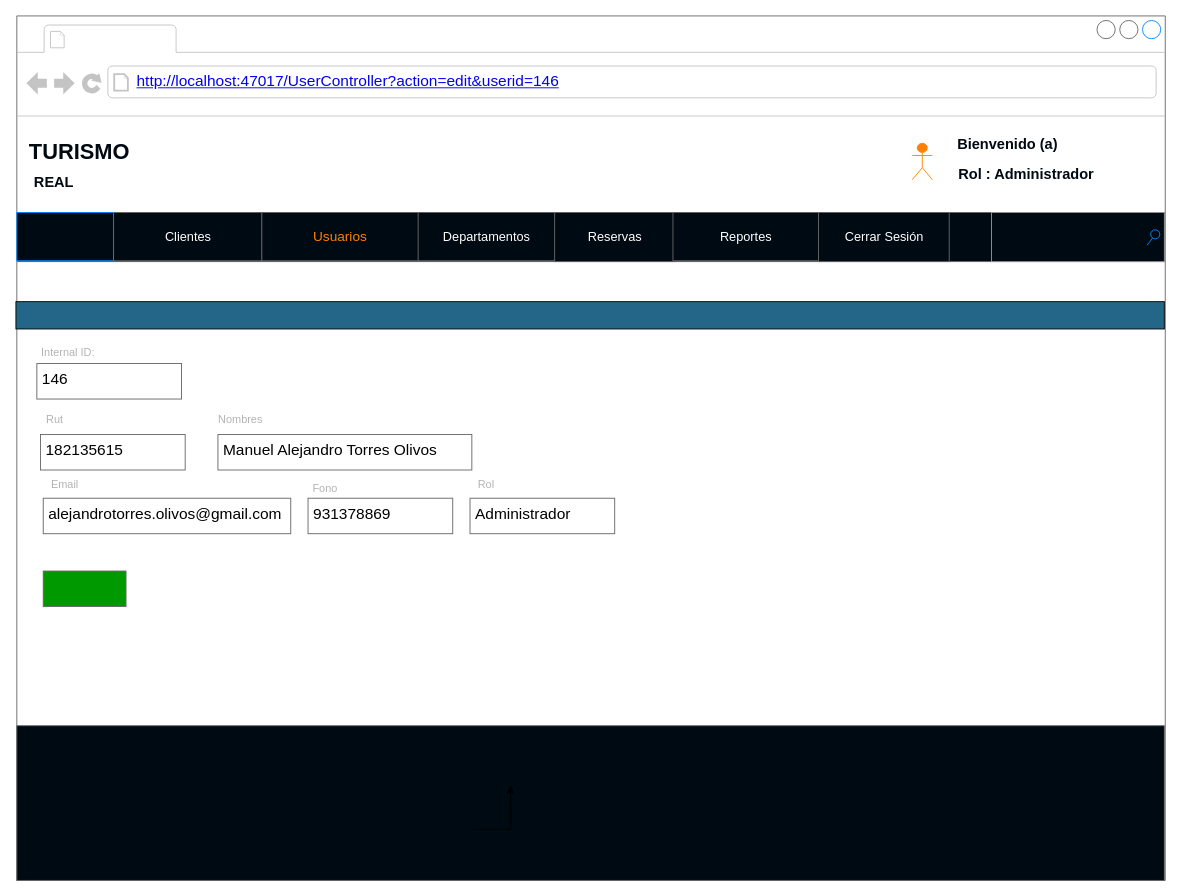
Image size: 1181x896. Some labels were removed from this diagram. Each missing label, with the centre of its shape:
Actualizar: point (84, 588)
Actualizar Usuario: point (589, 315)
Buscar: point (1077, 237)
CONECTA CON NOSOTROS: point (590, 802)
Home: point (65, 236)
Page 1: point (121, 38)
